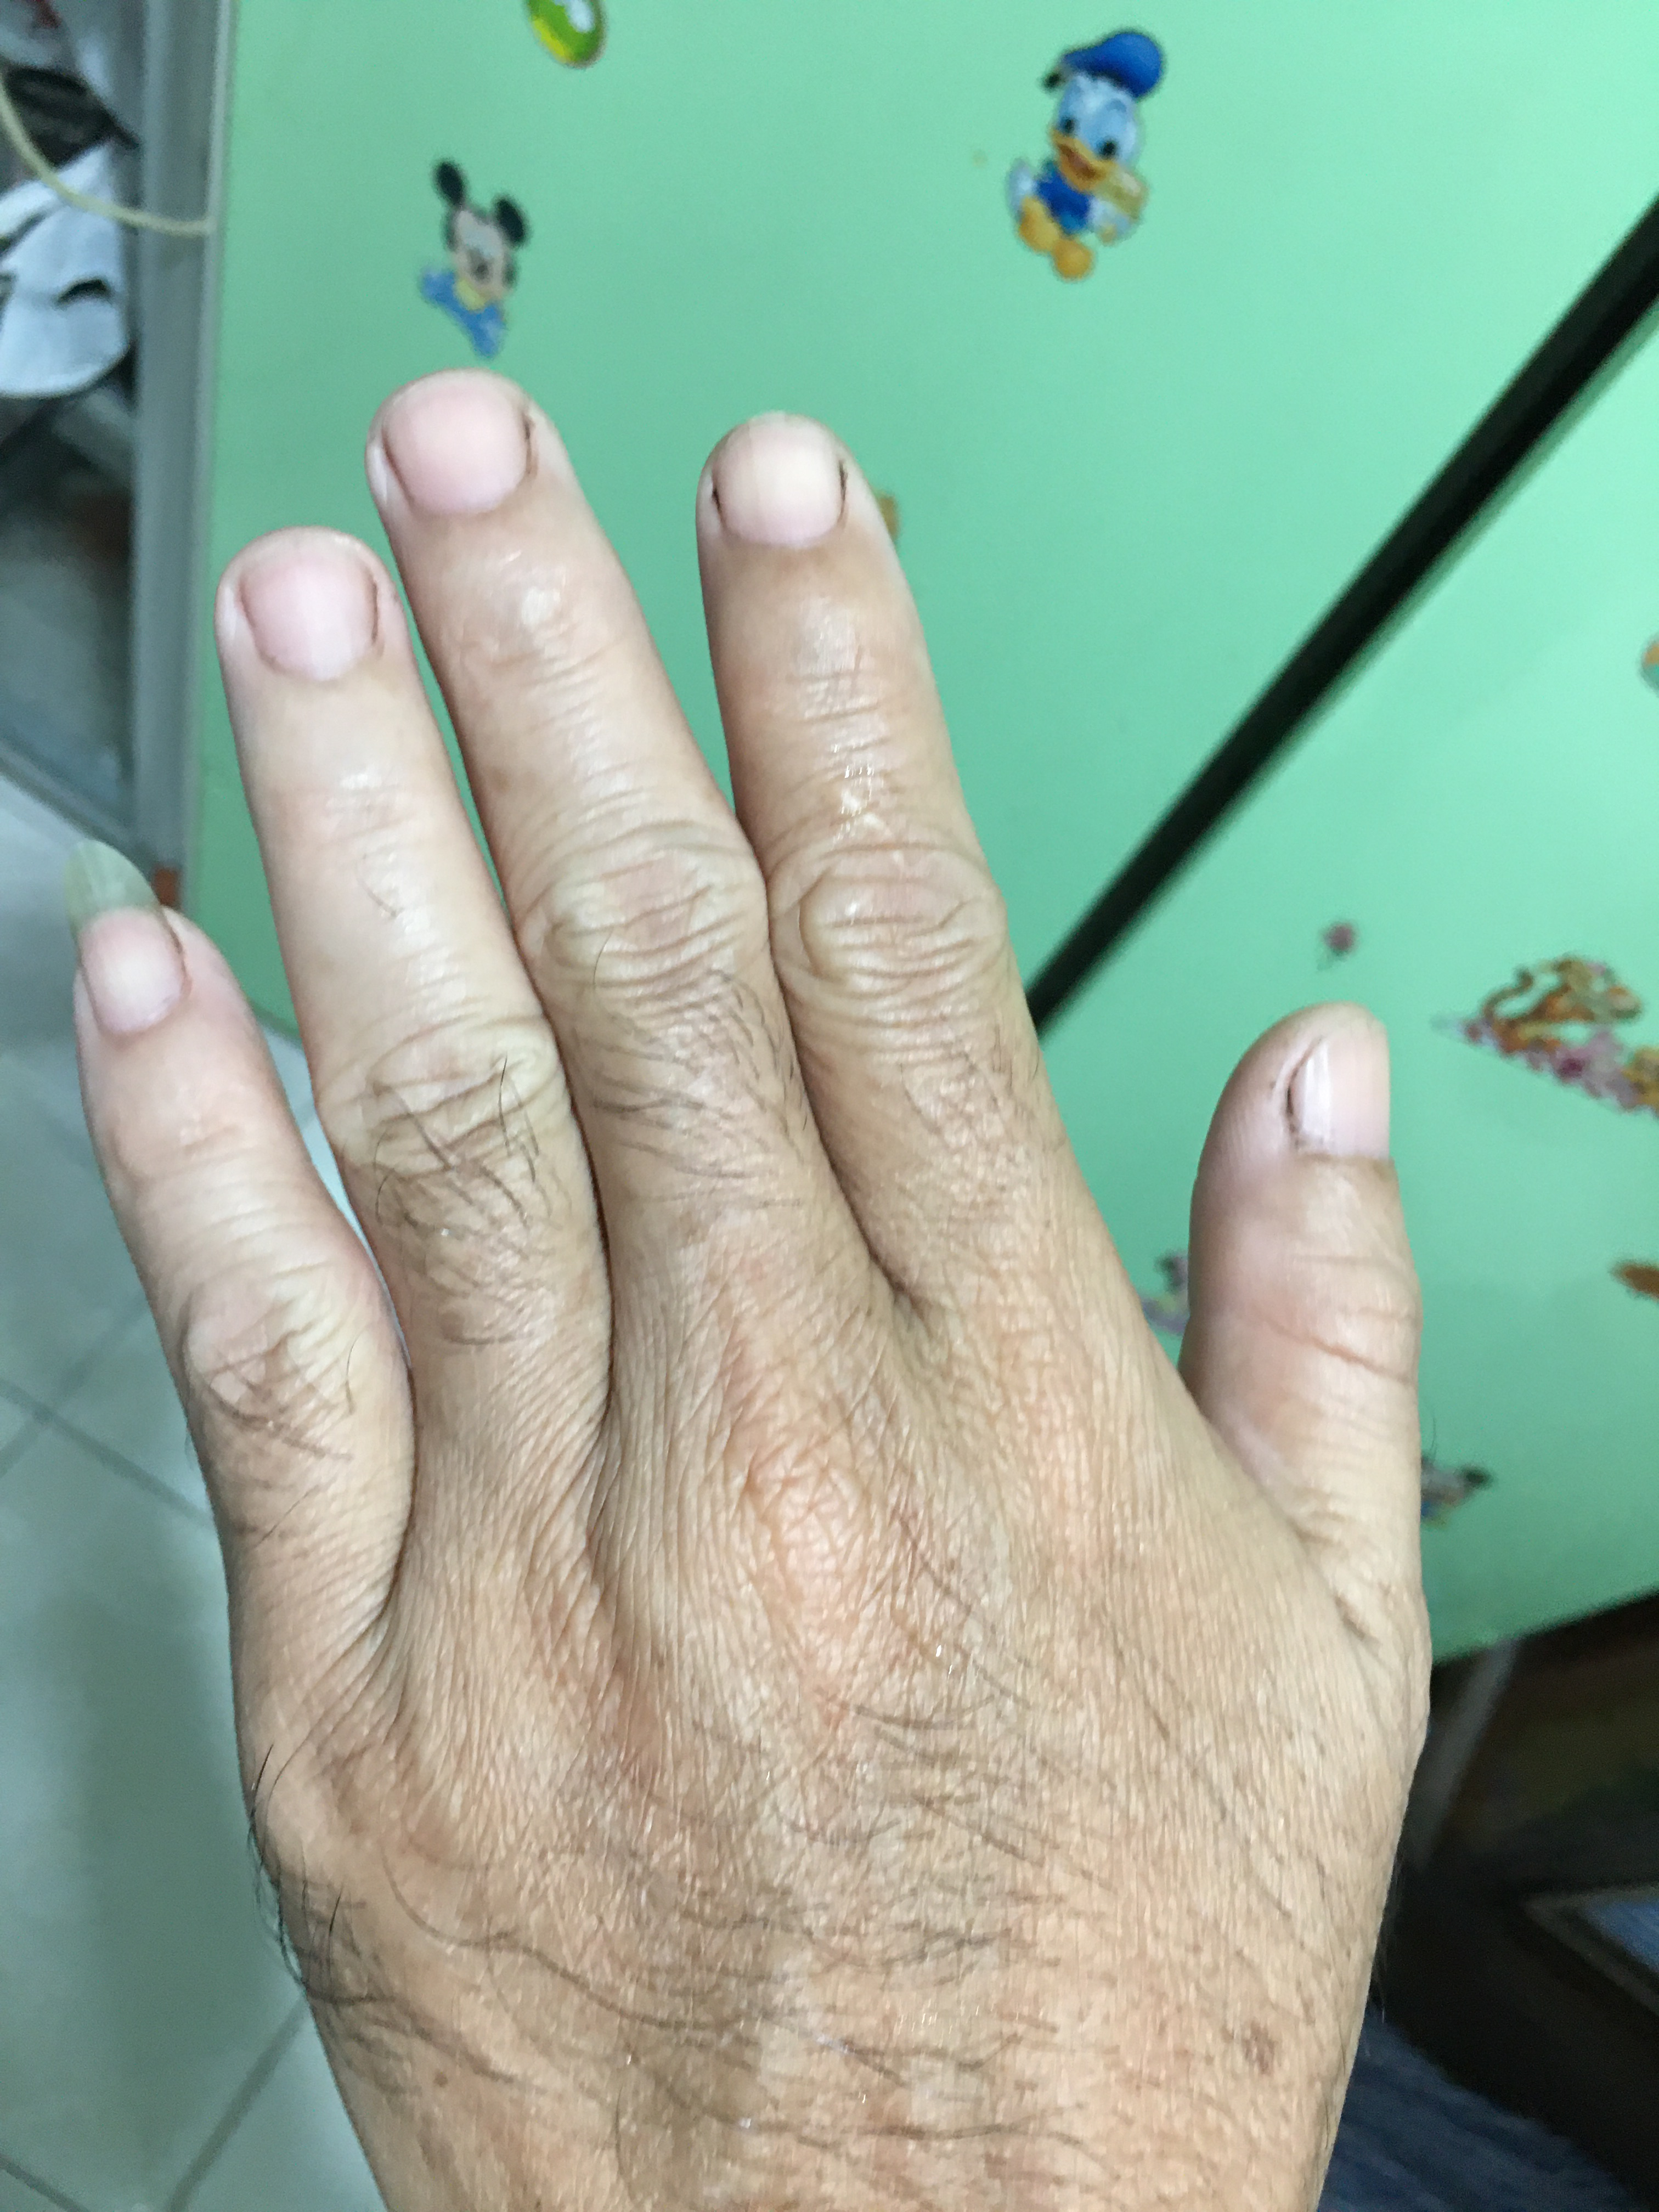nails: (364, 355, 558, 540), (695, 385, 863, 578), (218, 516, 397, 695), (1272, 986, 1424, 1181), (59, 888, 209, 1061)
